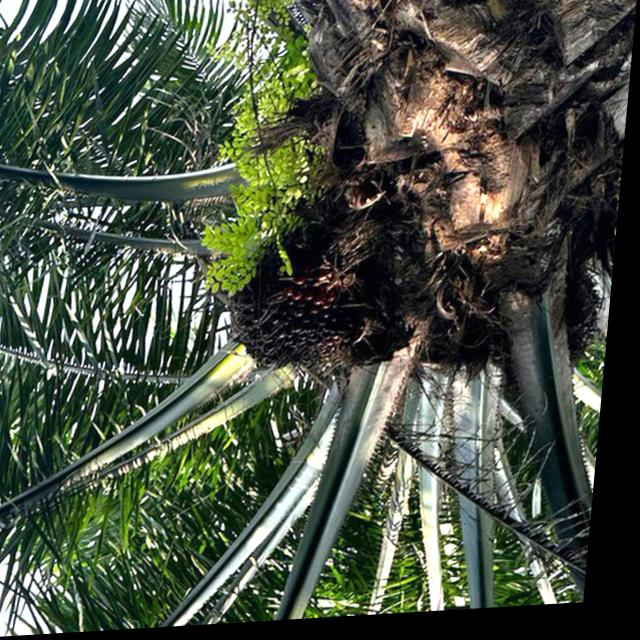unripe: (216, 230, 381, 390)
